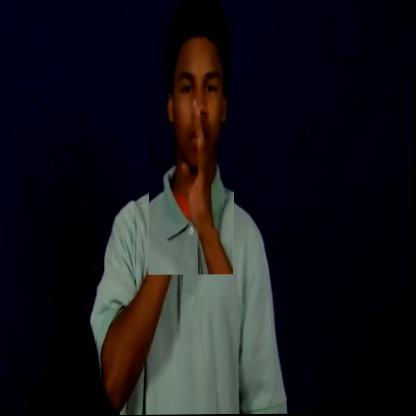Talk: (149, 0, 237, 275)
